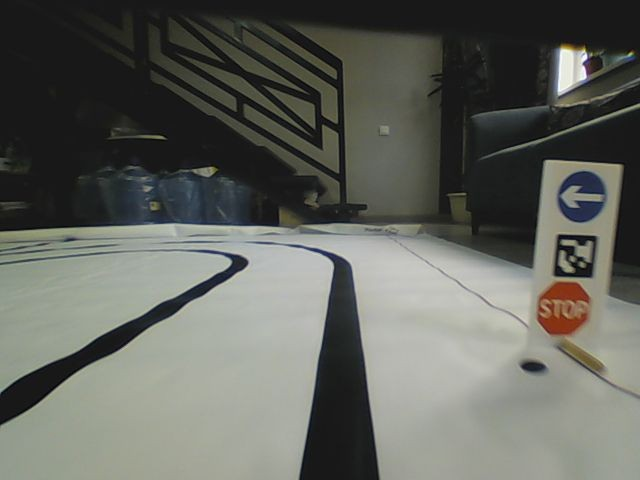Stop: (537, 281, 593, 336)
